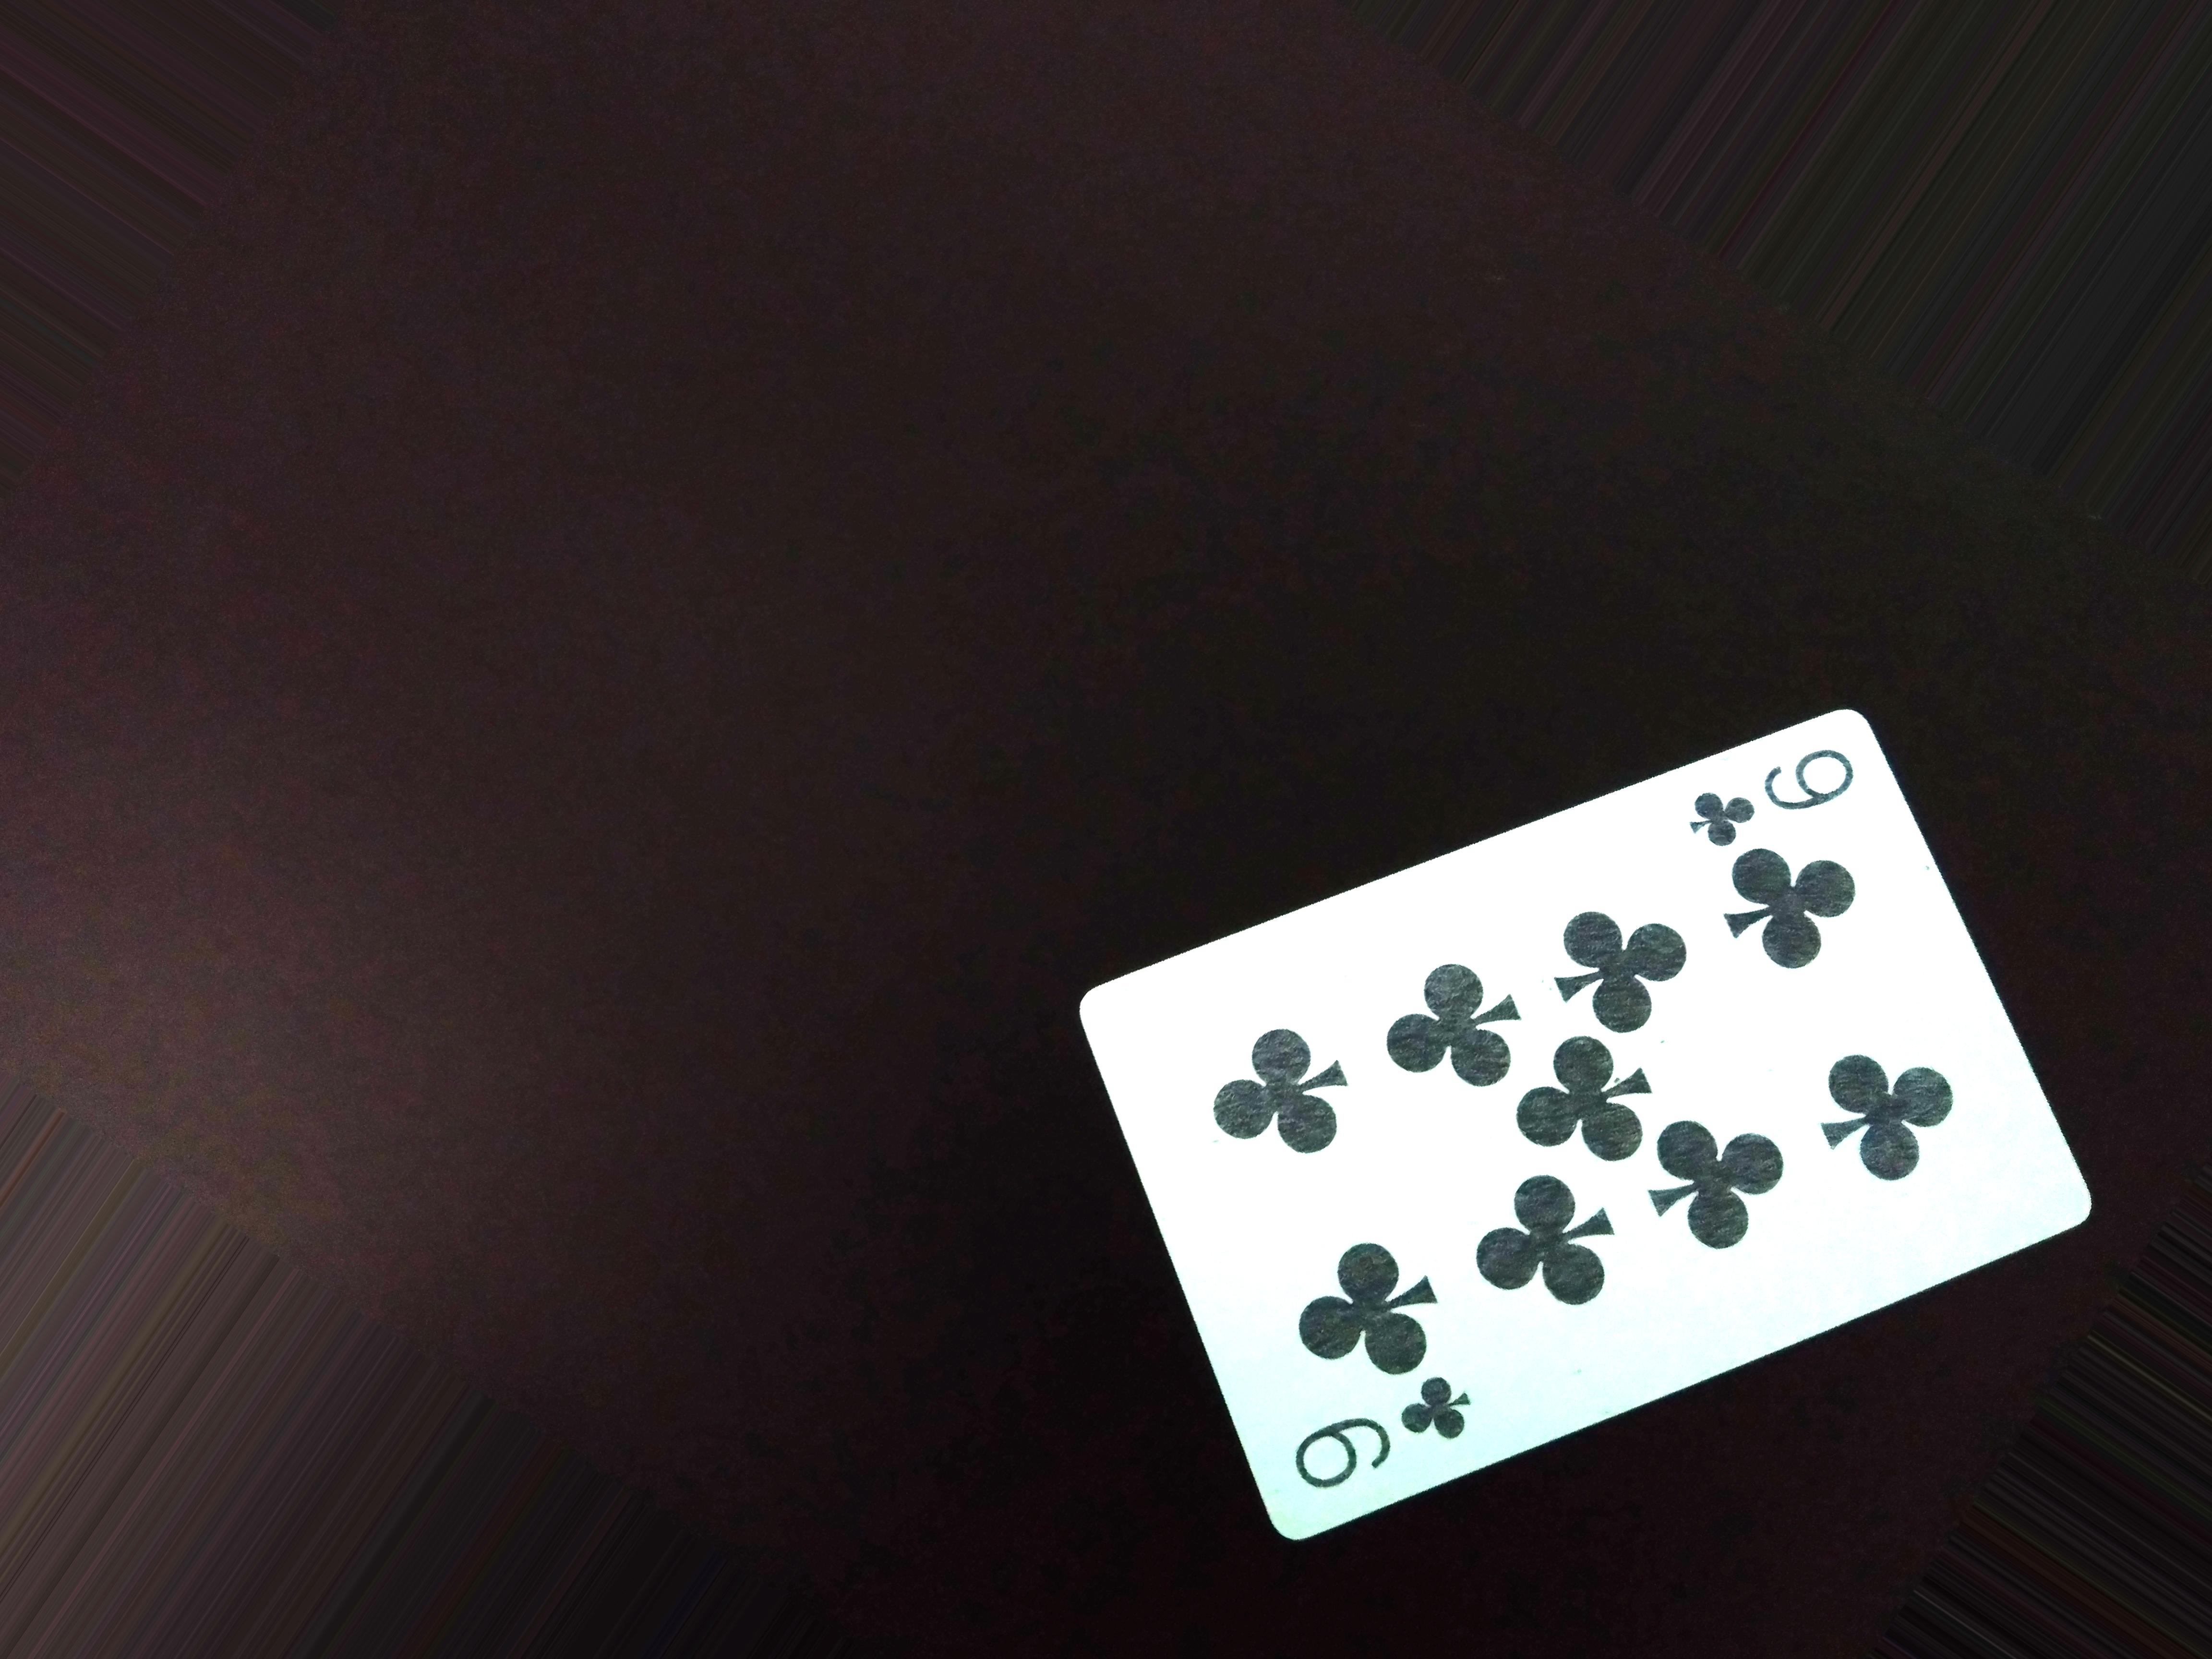9C: (1677, 716, 1871, 850)
